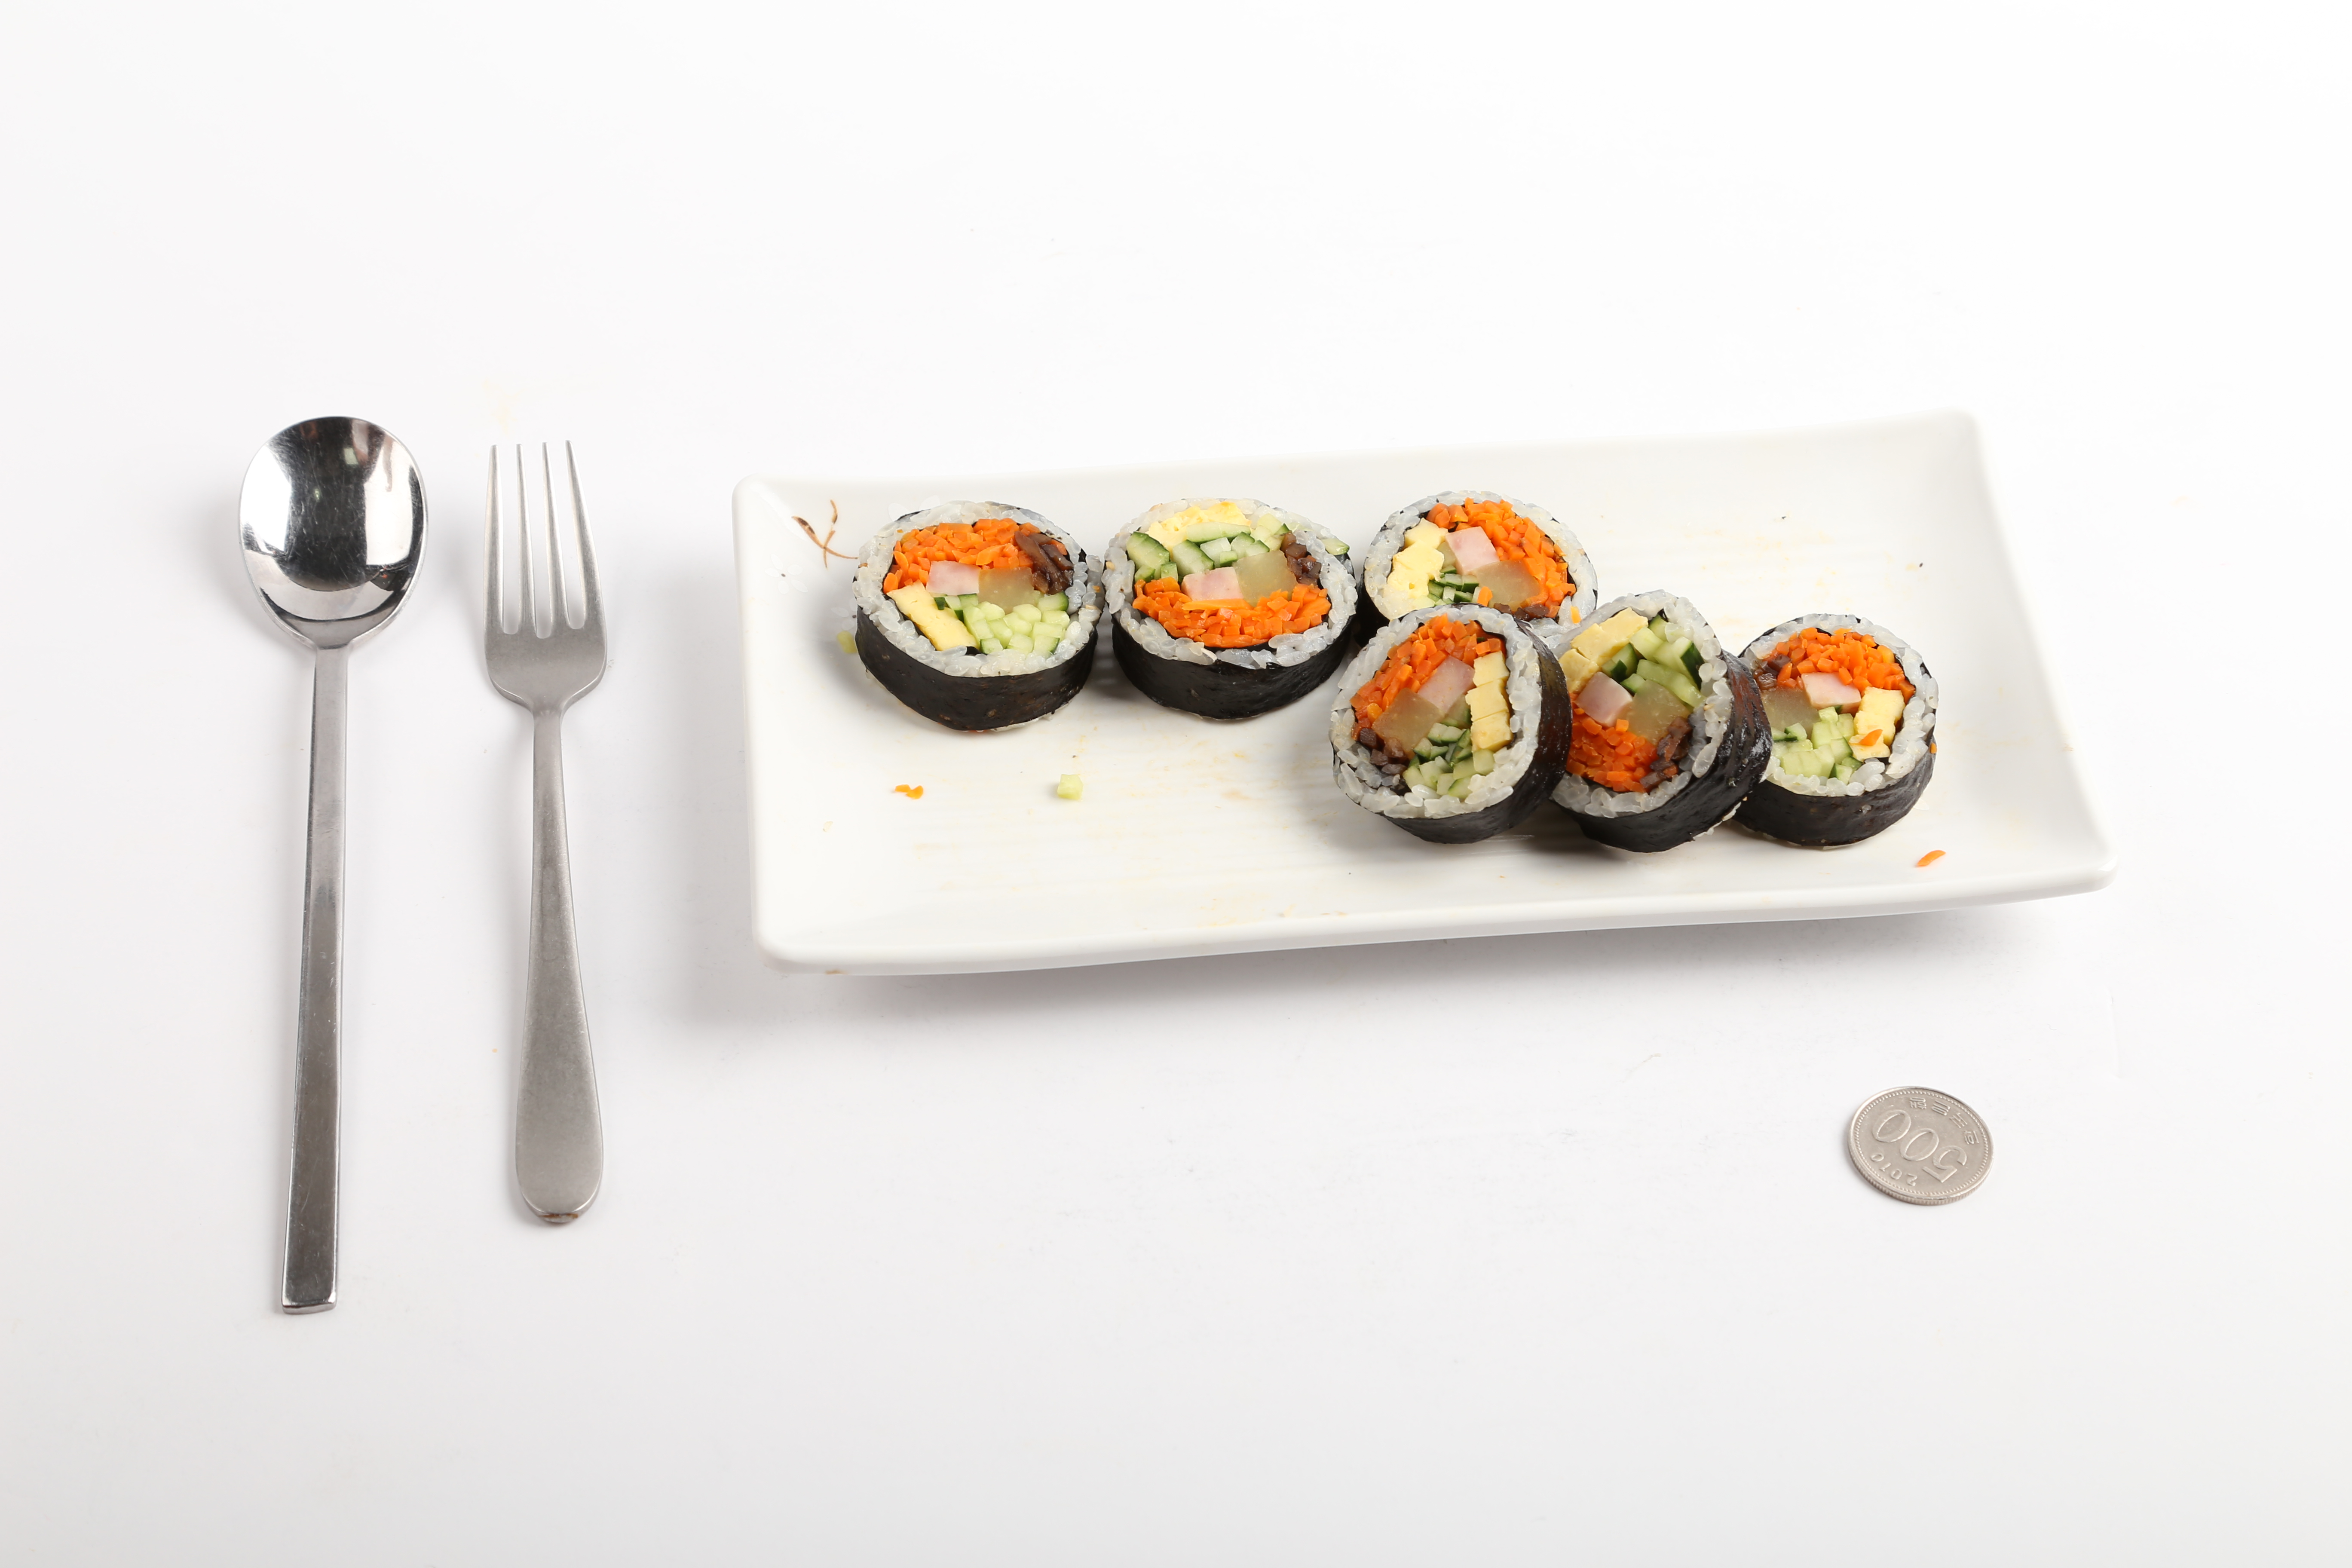dish: (723, 404, 2119, 983)
ref_coin: (1841, 1067, 1993, 1216)
ref_fork: (474, 437, 609, 770)
ref_spoon: (234, 411, 423, 742)
김밥: (850, 488, 1942, 854)
